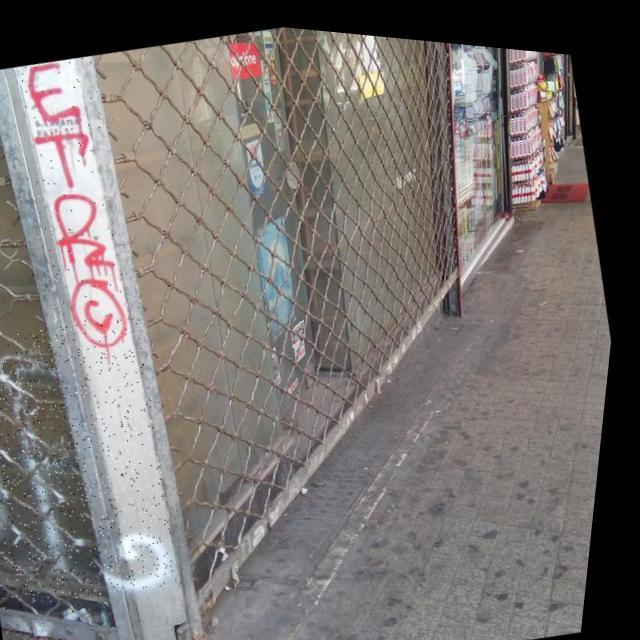-: (0, 299, 210, 622), (0, 49, 165, 372)
